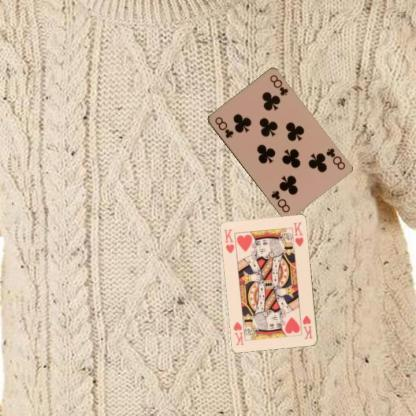8c: (212, 115, 235, 140), (323, 146, 346, 171)
Kh: (221, 226, 236, 255), (300, 313, 314, 340)
